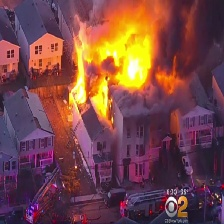fire: (68, 24, 152, 117)
smoke: (156, 3, 224, 100)
